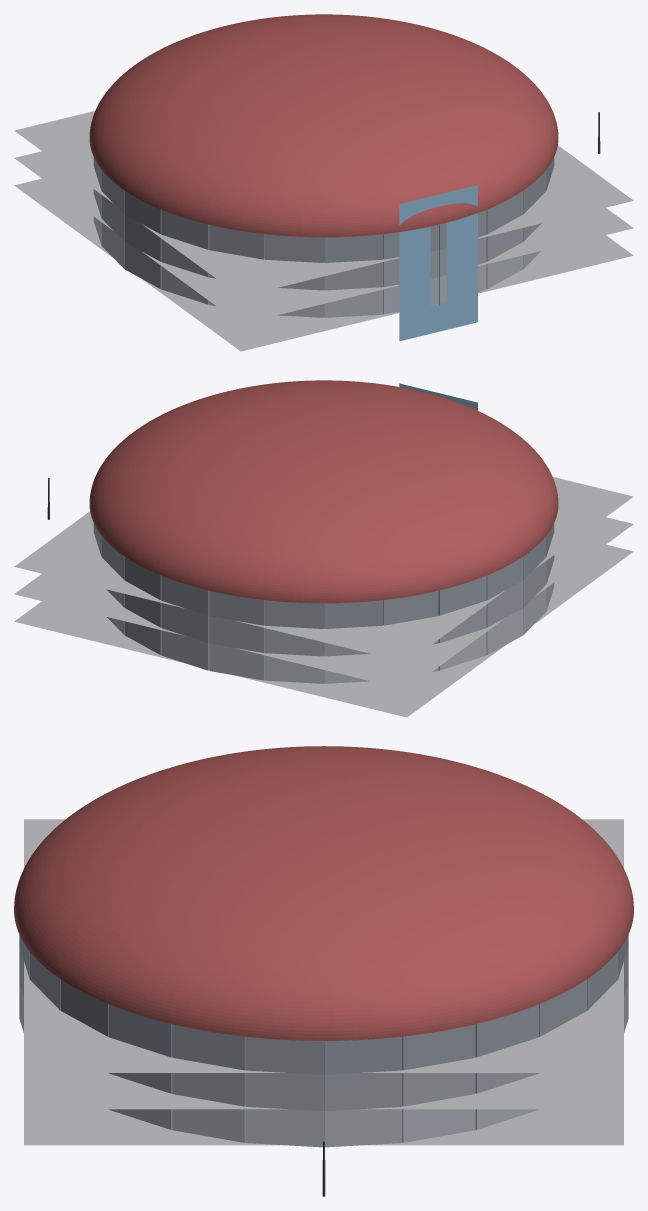
File: synthetic.prepared.glb
The picture shows the model from 3 angles, top to bottom: view 1: azimuth 30°, elevation 25°; view 2: azimuth 150°, elevation 25°; view 3: azimuth 270°, elevation 25°; orthographic projection. The views are drawn at different scales.
Parts seen in each view (by area): view 1: roof, level_2, level_0, level_1; view 2: roof, level_2, level_0, level_1; view 3: roof, level_2, level_1, level_0.
Boxes of the visible parts, bbox=[...] form: roof: bbox=[89, 14, 558, 237]; level_2: bbox=[14, 111, 633, 296]; level_0: bbox=[14, 178, 633, 351]; level_1: bbox=[14, 151, 633, 323]; roof: bbox=[89, 380, 558, 603]; level_2: bbox=[14, 383, 633, 662]; level_0: bbox=[14, 544, 633, 717]; level_1: bbox=[14, 517, 633, 689]; roof: bbox=[14, 746, 633, 1040]; level_2: bbox=[19, 819, 628, 1074]; level_1: bbox=[19, 947, 628, 1110]; level_0: bbox=[19, 983, 628, 1147].
Size of the model in its own units: 73.15 by 26.84 by 62.
